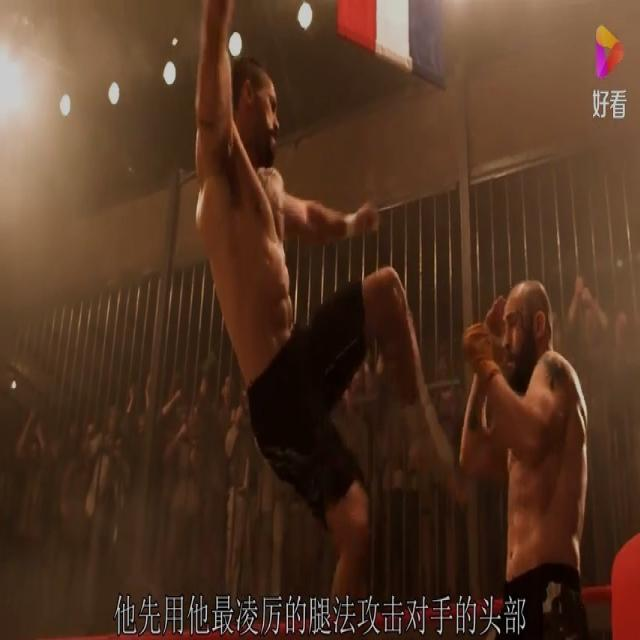fight: (190, 5, 596, 639)
